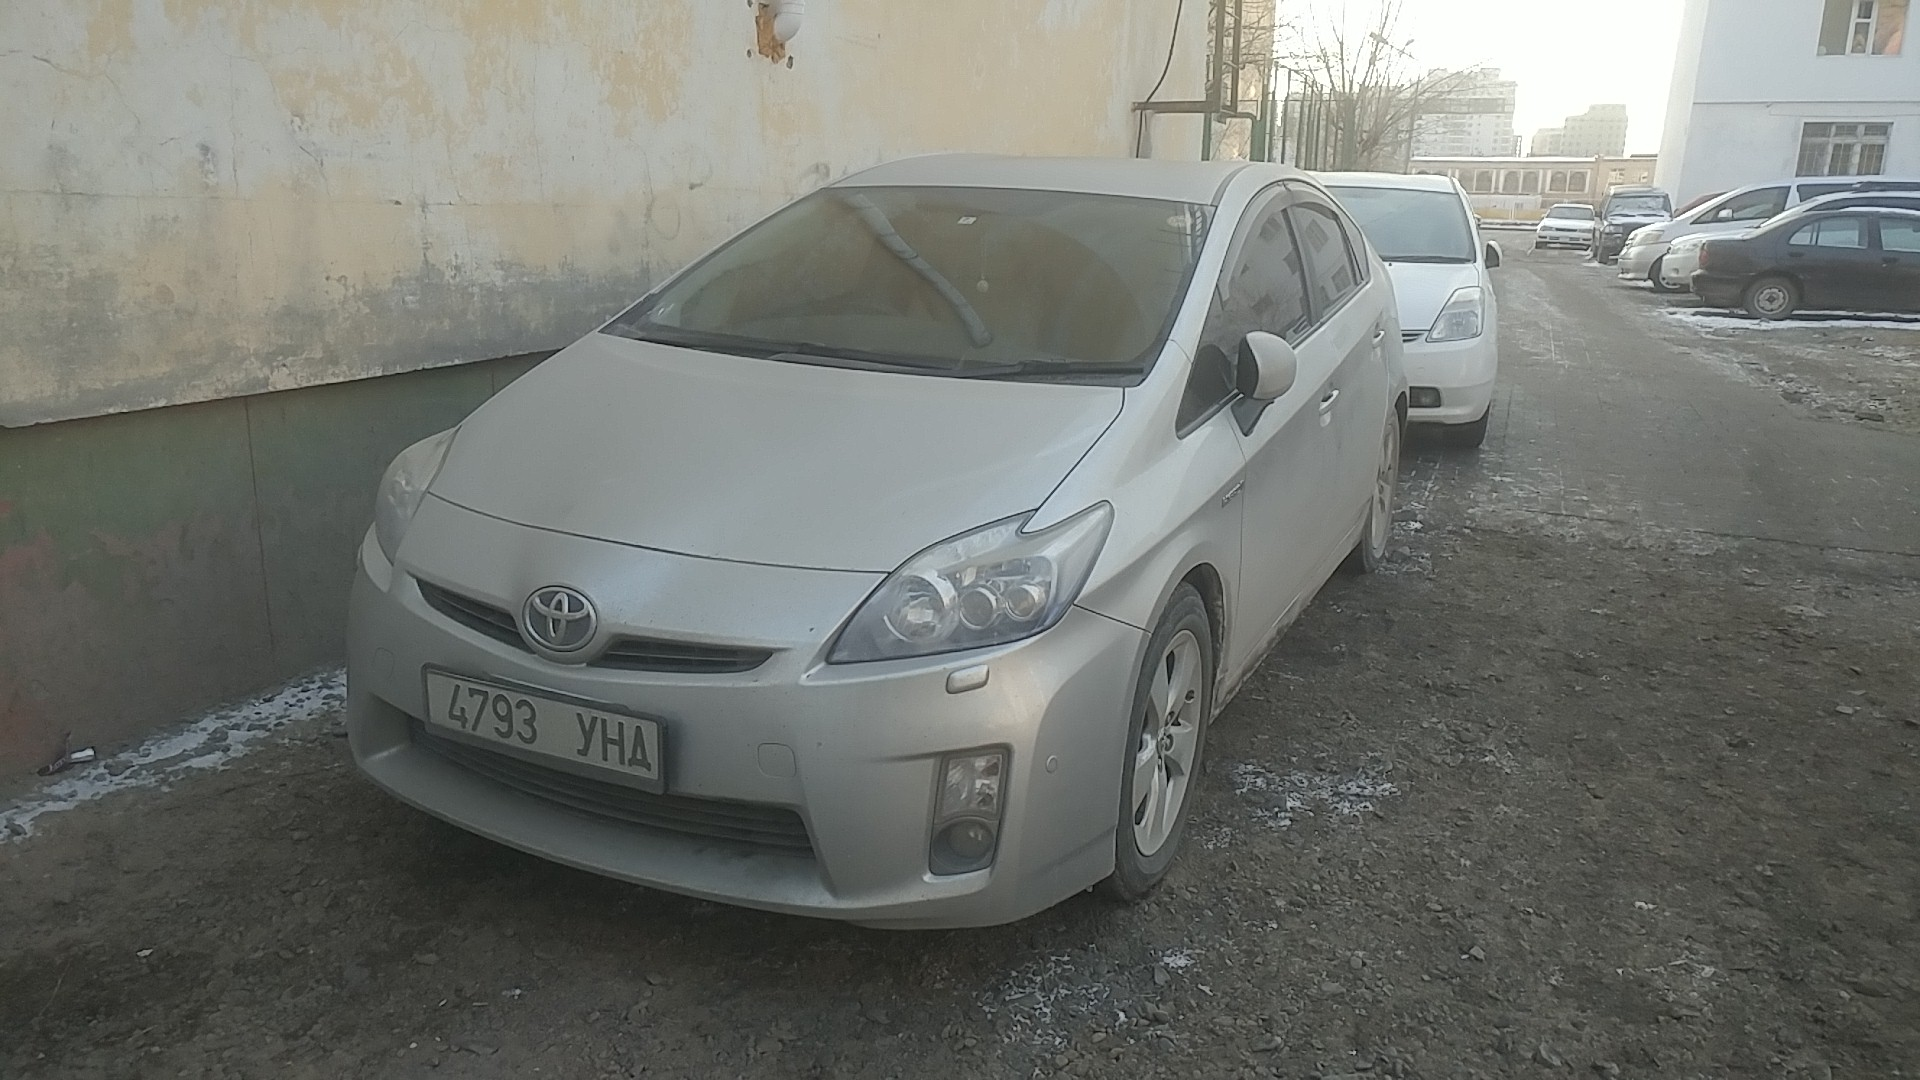3: (514, 697, 540, 744)
4: (444, 682, 469, 729)
7: (468, 687, 489, 730)
9: (490, 693, 514, 740)
d: (627, 724, 653, 772)
n: (600, 717, 628, 765)
plate: (418, 662, 673, 797)
u: (575, 710, 598, 758)
